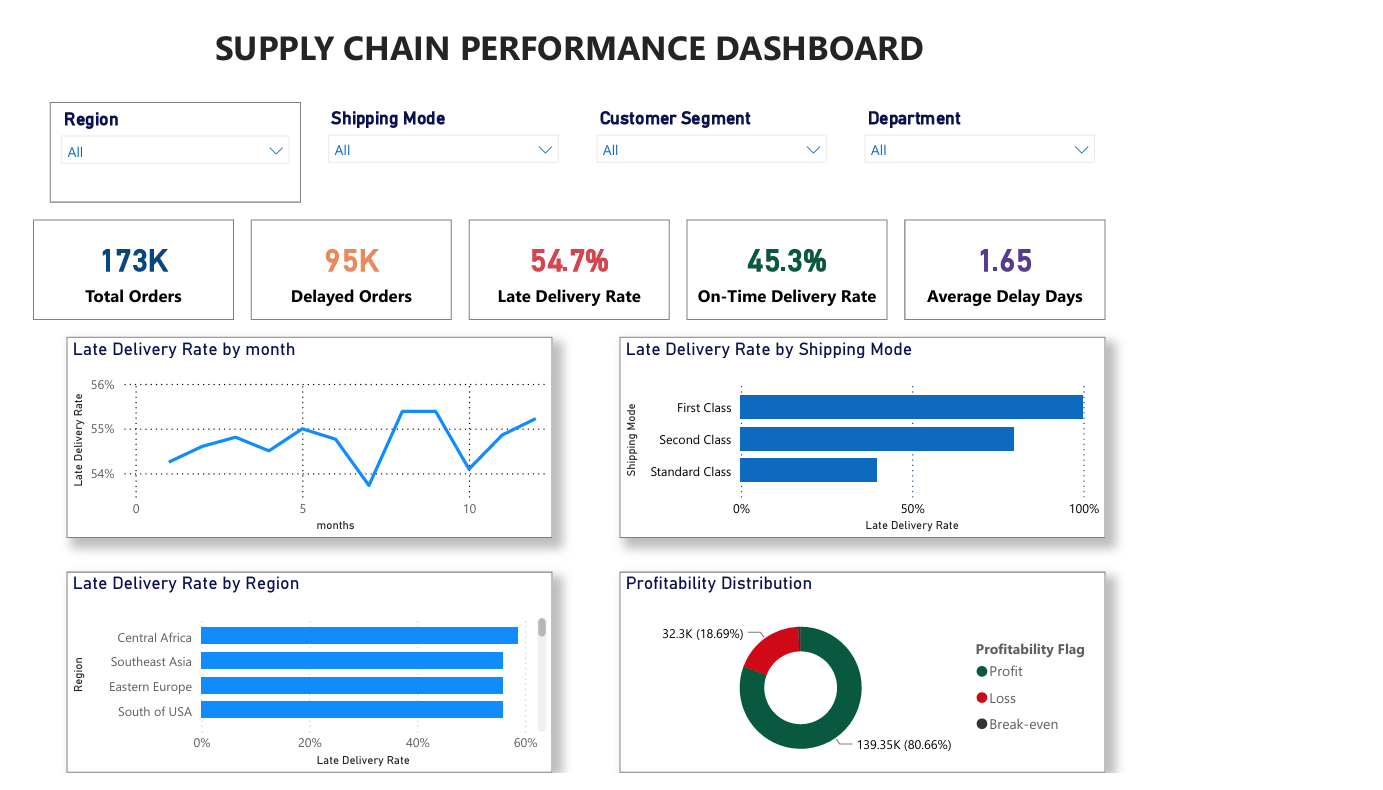

The page's visual inventory and layout, read from the dashboard file:
{"tool":"powerbi","page":{"name":"Page 1","canvas":[1280,720],"ordinal":0},"visuals":[{"type":"card","fields":{"Values":["Supply_chain_analysis.Total Orders"]},"box":[16,192,192,96],"z":0},{"type":"card","fields":{"Values":["Supply_chain_analysis.Delayed Orders"]},"box":[224,192,192,96],"z":1},{"type":"card","fields":{"Values":["Supply_chain_analysis.On-Time Delivery %"]},"box":[640,192,192,96],"z":2},{"type":"card","fields":{"Values":["Supply_chain_analysis.Late Delivery %"]},"box":[432,192,192,96],"z":4},{"type":"card","fields":{"Values":["Supply_chain_analysis.Average Delay Days"]},"box":[848,192,192,96],"z":5},{"type":"textbox","box":[0,0,1056,64],"z":6},{"type":"lineChart","title":"Late Delivery Rate by month","fields":{"Category":["Supply_chain_analysis.order_month"],"Y":["Supply_chain_analysis.Late Delivery Rate"]},"box":[48,304,464,192],"z":7},{"type":"clusteredBarChart","fields":{"Category":["Supply_chain_analysis.Shipping Mode"],"Y":["Supply_chain_analysis.Late Delivery Rate"]},"box":[576,304,464,192],"z":8},{"type":"clusteredBarChart","title":"Late Delivery Rate by Region","fields":{"Category":["Supply_chain_analysis.Order Region"],"Y":["Supply_chain_analysis.Late Delivery Rate"]},"box":[48,528,464,192],"z":9},{"type":"donutChart","title":"Profitability Distribution","fields":{"Category":["Supply_chain_analysis.Profitability Flag"],"Y":["CountNonNull(Supply_chain_analysis.Profitability Flag)"]},"box":[576,528,464,192],"z":10},{"type":"slicer","fields":{"Values":["Supply_chain_analysis.Order Region"]},"box":[32,80,240,96],"z":12},{"type":"slicer","fields":{"Values":["Supply_chain_analysis.Shipping Mode"]},"box":[288,80,240,96],"z":13},{"type":"slicer","fields":{"Values":["Supply_chain_analysis.Customer Segment"]},"box":[544,80,240,96],"z":14},{"type":"slicer","fields":{"Values":["Supply_chain_analysis.Department Name"]},"box":[800,80,240,96],"z":15}]}

Visuals, with their boxes in screenshot pixels (x1, y1, x2, y2), scaled from the page's 1280x720 canvas onto the 1383x790 screenshot:
card - Supply_chain_analysis.Total Orders: crop(17, 211, 225, 316)
card - Supply_chain_analysis.Delayed Orders: crop(242, 211, 449, 316)
card - Supply_chain_analysis.On-Time Delivery %: crop(692, 211, 899, 316)
card - Supply_chain_analysis.Late Delivery %: crop(467, 211, 674, 316)
card - Supply_chain_analysis.Average Delay Days: crop(916, 211, 1124, 316)
textbox: crop(0, 0, 1141, 70)
"Late Delivery Rate by month" lineChart: crop(52, 334, 553, 544)
clusteredBarChart - Supply_chain_analysis.Shipping Mode x Supply_chain_analysis.Late Delivery Rate: crop(622, 334, 1124, 544)
"Late Delivery Rate by Region" clusteredBarChart: crop(52, 579, 553, 789)
"Profitability Distribution" donutChart: crop(622, 579, 1124, 789)
slicer - Supply_chain_analysis.Order Region: crop(35, 88, 294, 193)
slicer - Supply_chain_analysis.Shipping Mode: crop(311, 88, 570, 193)
slicer - Supply_chain_analysis.Customer Segment: crop(588, 88, 847, 193)
slicer - Supply_chain_analysis.Department Name: crop(864, 88, 1124, 193)
